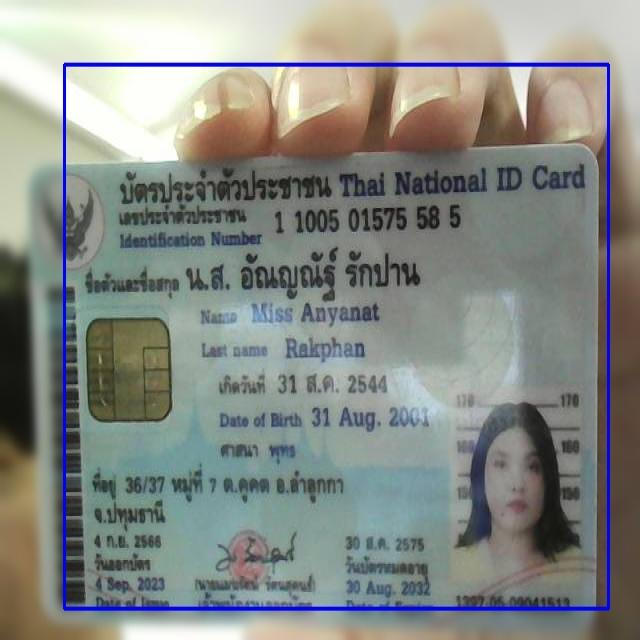Address_th: (88, 461, 356, 532)
Date_of_Birth: (308, 401, 432, 436)
Date_of_Expiry: (344, 574, 435, 602)
Date_of_Issue: (89, 574, 174, 598)
First_Name: (247, 296, 383, 331)
ID_Number: (271, 203, 469, 238)
Image: (451, 386, 582, 590)
Last_Name: (280, 334, 368, 366)
Thai_Name: (180, 244, 430, 302)
